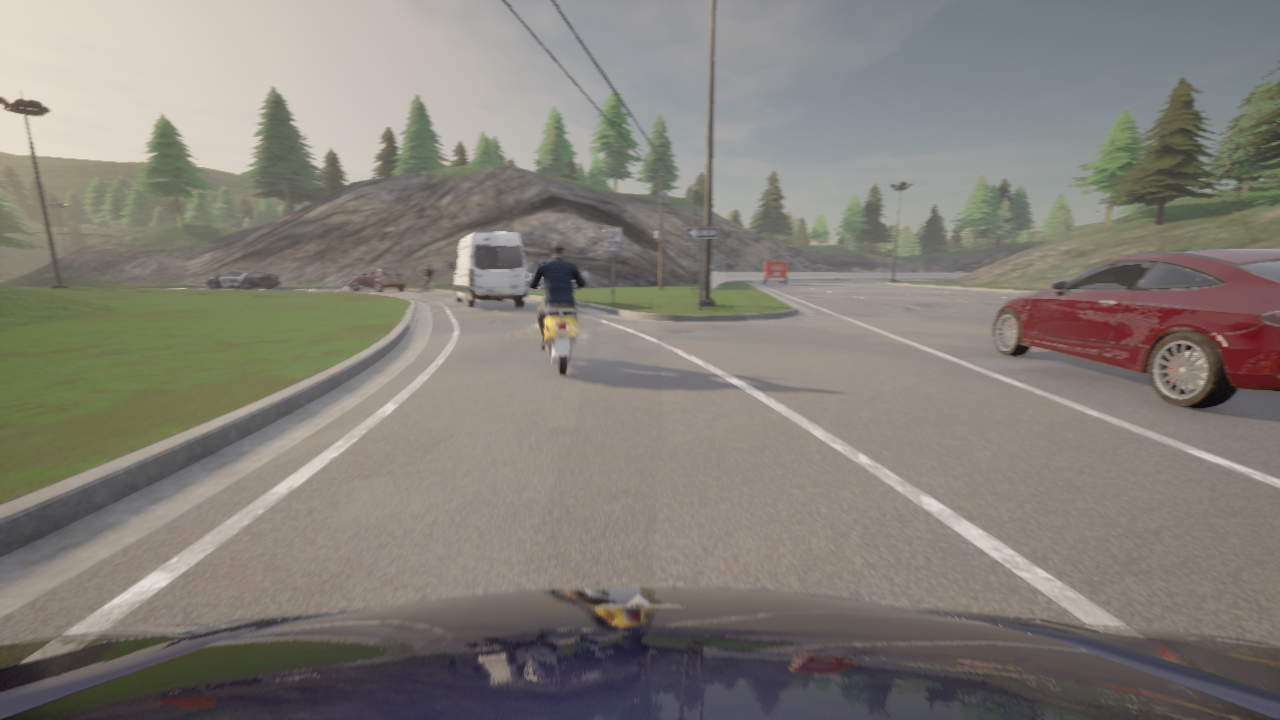cyclist: (0, 588, 1279, 719), (992, 248, 1279, 408), (523, 271, 588, 375), (449, 232, 528, 308), (207, 269, 279, 289), (350, 267, 406, 292), (761, 261, 789, 284), (423, 281, 434, 292)
